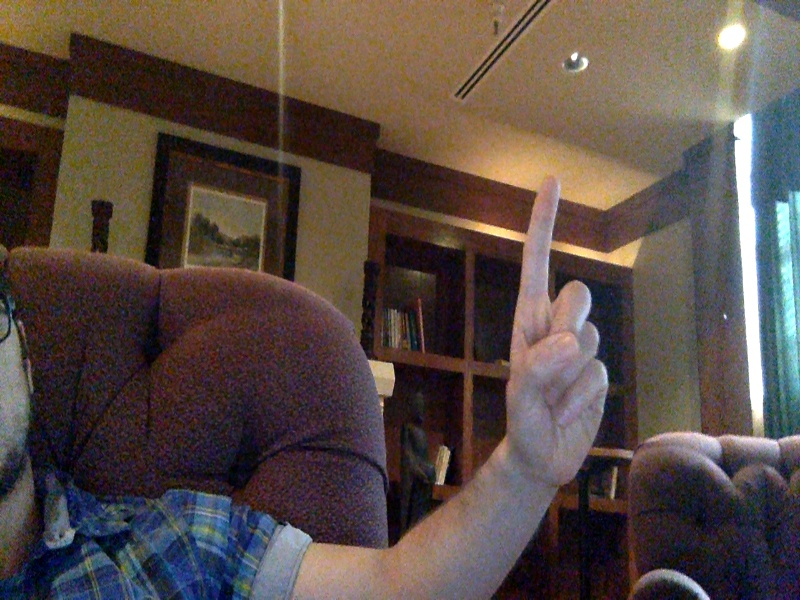1-hand: (509, 177, 608, 486)
